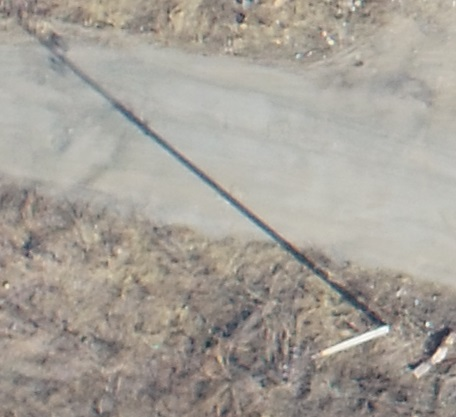opora: (302, 305, 390, 370)
